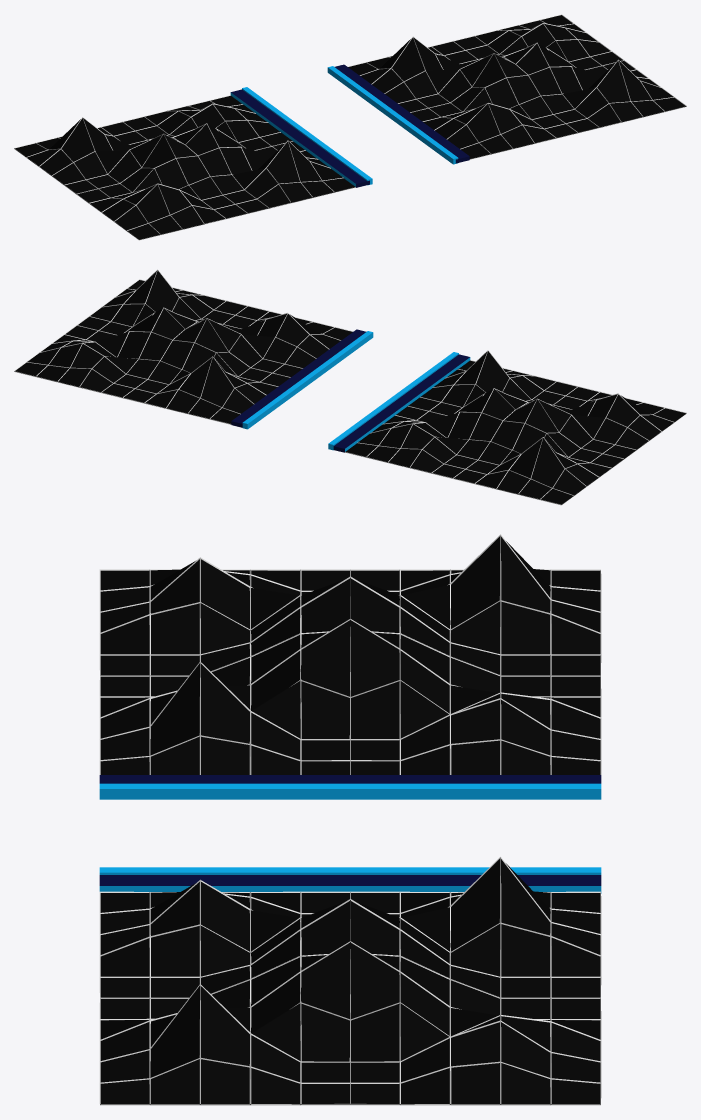
File: 3SAMPLEnew_platform_mountaine_.fbx
3 views of the same model, one above another, from view 1: azimuth 30°, elevation 25°; view 2: azimuth 150°, elevation 25°; view 3: azimuth 270°, elevation 25° (orthographic). The views are drawn at different scales.
Parts seen in each view (by area): view 1: Plane.001, Plane, Cube.001; view 2: Plane.001, Plane, Cube.001; view 3: Plane, Plane.001, Cube.001.
Part boxes in pixels (left/top/right/bottom): Plane.001: left=14, top=95, right=355, bottom=240; Plane: left=348, top=14, right=686, bottom=159; Cube.001: left=230, top=64, right=469, bottom=187; Plane.001: left=345, top=350, right=686, bottom=505; Plane: left=14, top=269, right=353, bottom=424; Cube.001: left=231, top=329, right=470, bottom=452; Plane: left=99, top=857, right=601, bottom=1105; Plane.001: left=99, top=534, right=601, bottom=774; Cube.001: left=99, top=775, right=601, bottom=893.
Size of the model in its own units: 4029 by 284 by 1598.
